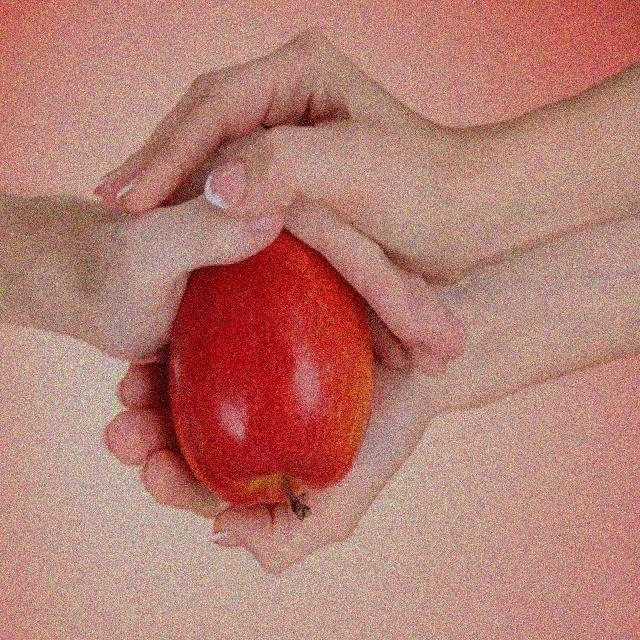red apple: (169, 226, 381, 507)
